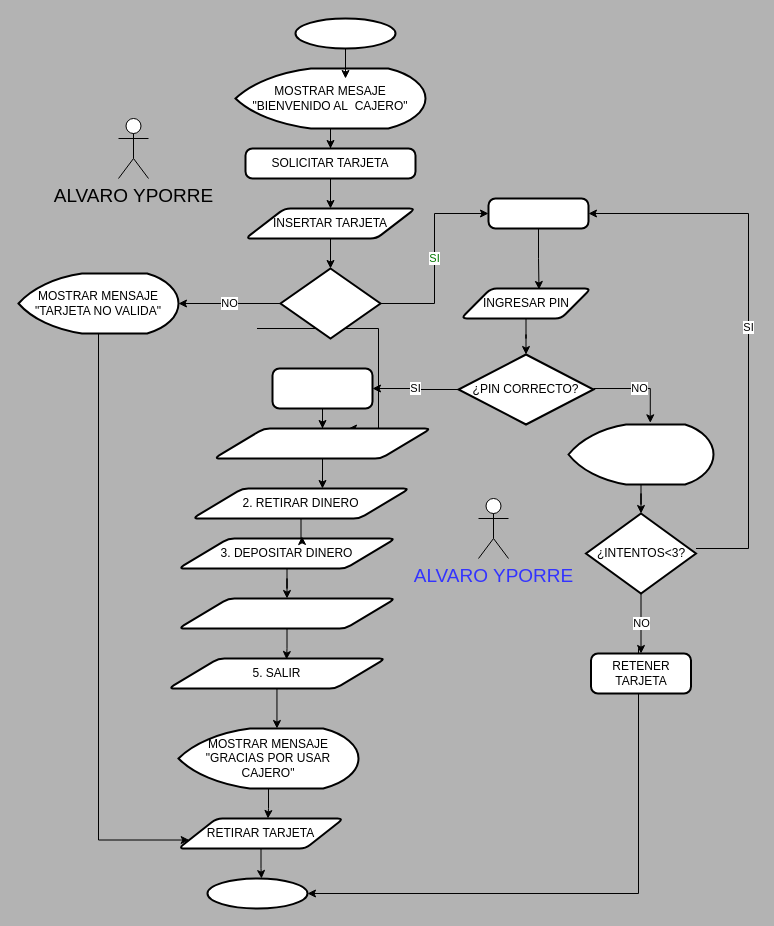
Image size: 774x926. Some labels were removed from this diagram. Here are the shapes that lost their labels. From the top down, the box of each, then its label:
(294, 17, 396, 49): INICIO
(487, 197, 589, 229): SOLICITAR PIN
(279, 267, 381, 339): ¿TARJETA VÁLIDA?
(271, 367, 373, 409): MOSTRAR MENÚ
(212, 427, 432, 459): 1. CONSULTAR SALDO
(567, 423, 714, 485): MOSTRAR MENSAJE "PIN INCORRECTO"
(177, 597, 396, 629): 4. CAMBIAR PIN
(206, 877, 308, 909): FIN
